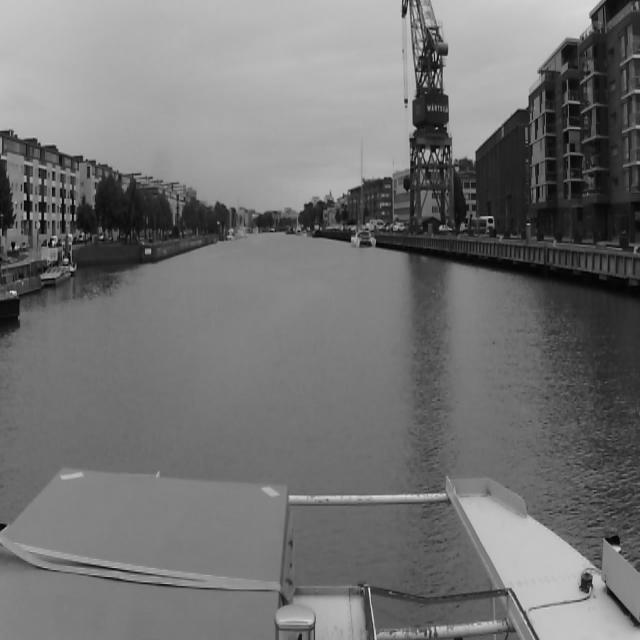ship: (353, 132, 376, 248), (41, 260, 69, 284)
